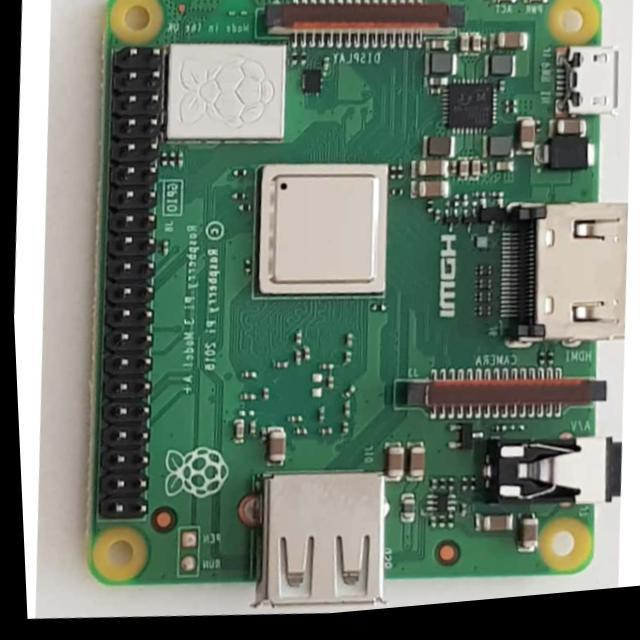Raspberry-Pi-3-A-: (92, 1, 627, 604)
